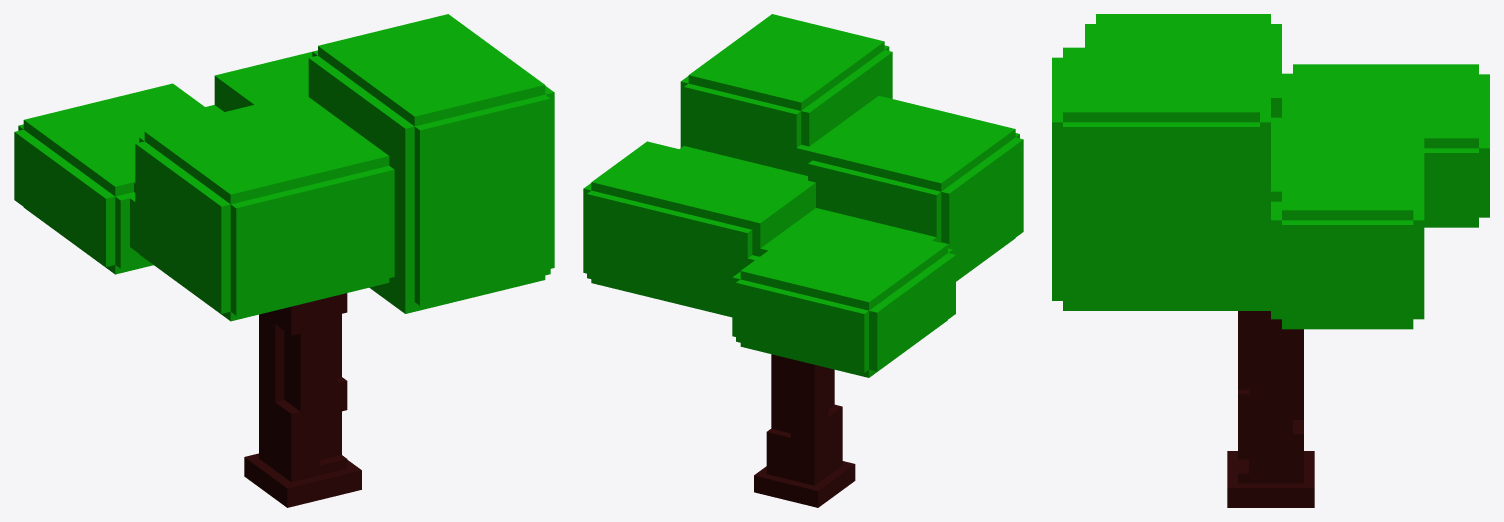
Rendered from Tree_1_3.fbx.
3 views of the same model, side by side, from view 1: azimuth 30°, elevation 25°; view 2: azimuth 150°, elevation 25°; view 3: azimuth 270°, elevation 25° (orthographic). The views are drawn at different scales.
Parts seen in each view (by area): view 1: Tree_1_3; view 2: Tree_1_3; view 3: Tree_1_3.
Part boxes in pixels (<box>): Tree_1_3: <box>14,14,554,507</box>; Tree_1_3: <box>583,14,1023,507</box>; Tree_1_3: <box>1052,14,1489,507</box>.
Size of the model in its own units: 4000 by 4500 by 4000.
